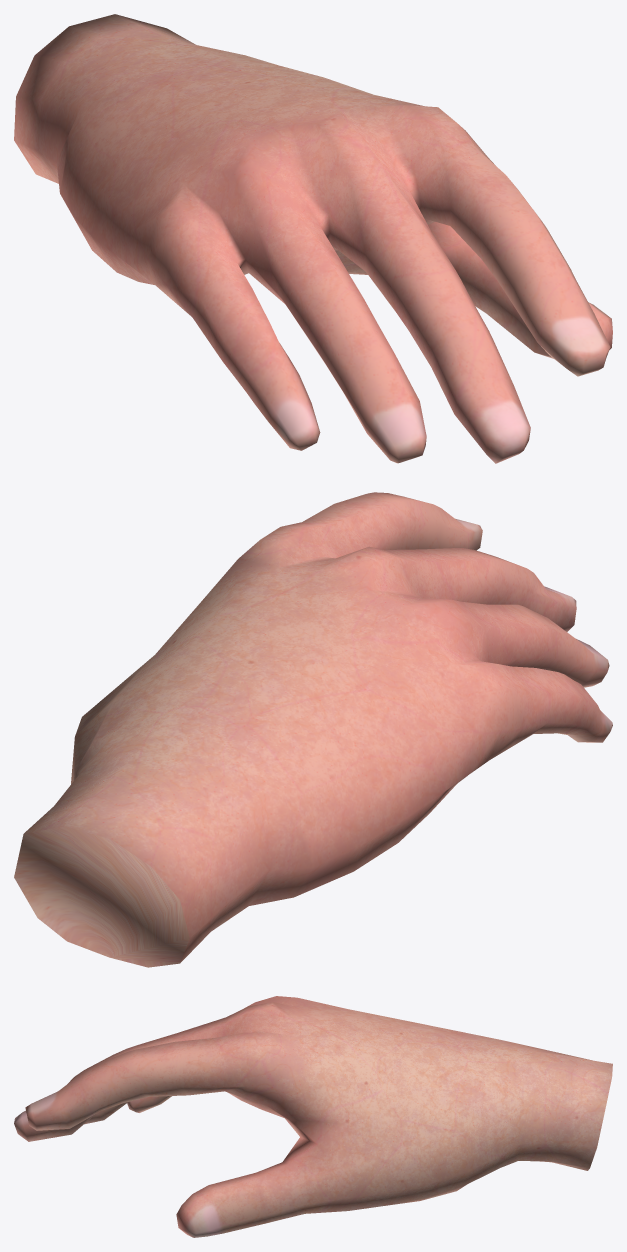
The model's file is HAND.fbx.
The picture shows the model from 3 angles, top to bottom: view 1: azimuth 30°, elevation 25°; view 2: azimuth 150°, elevation 25°; view 3: azimuth 270°, elevation 25°; orthographic projection. The views are drawn at different scales.
Parts seen in each view (by area): view 1: Hand Topology; view 2: Hand Topology; view 3: Hand Topology.
Part boxes in pixels (x1,y1,x2,y2): Hand Topology: (14, 14, 612, 463); Hand Topology: (14, 492, 612, 967); Hand Topology: (14, 996, 612, 1237).
Bounding box in the file's own units: 8.38 × 5.3 × 16.95.
